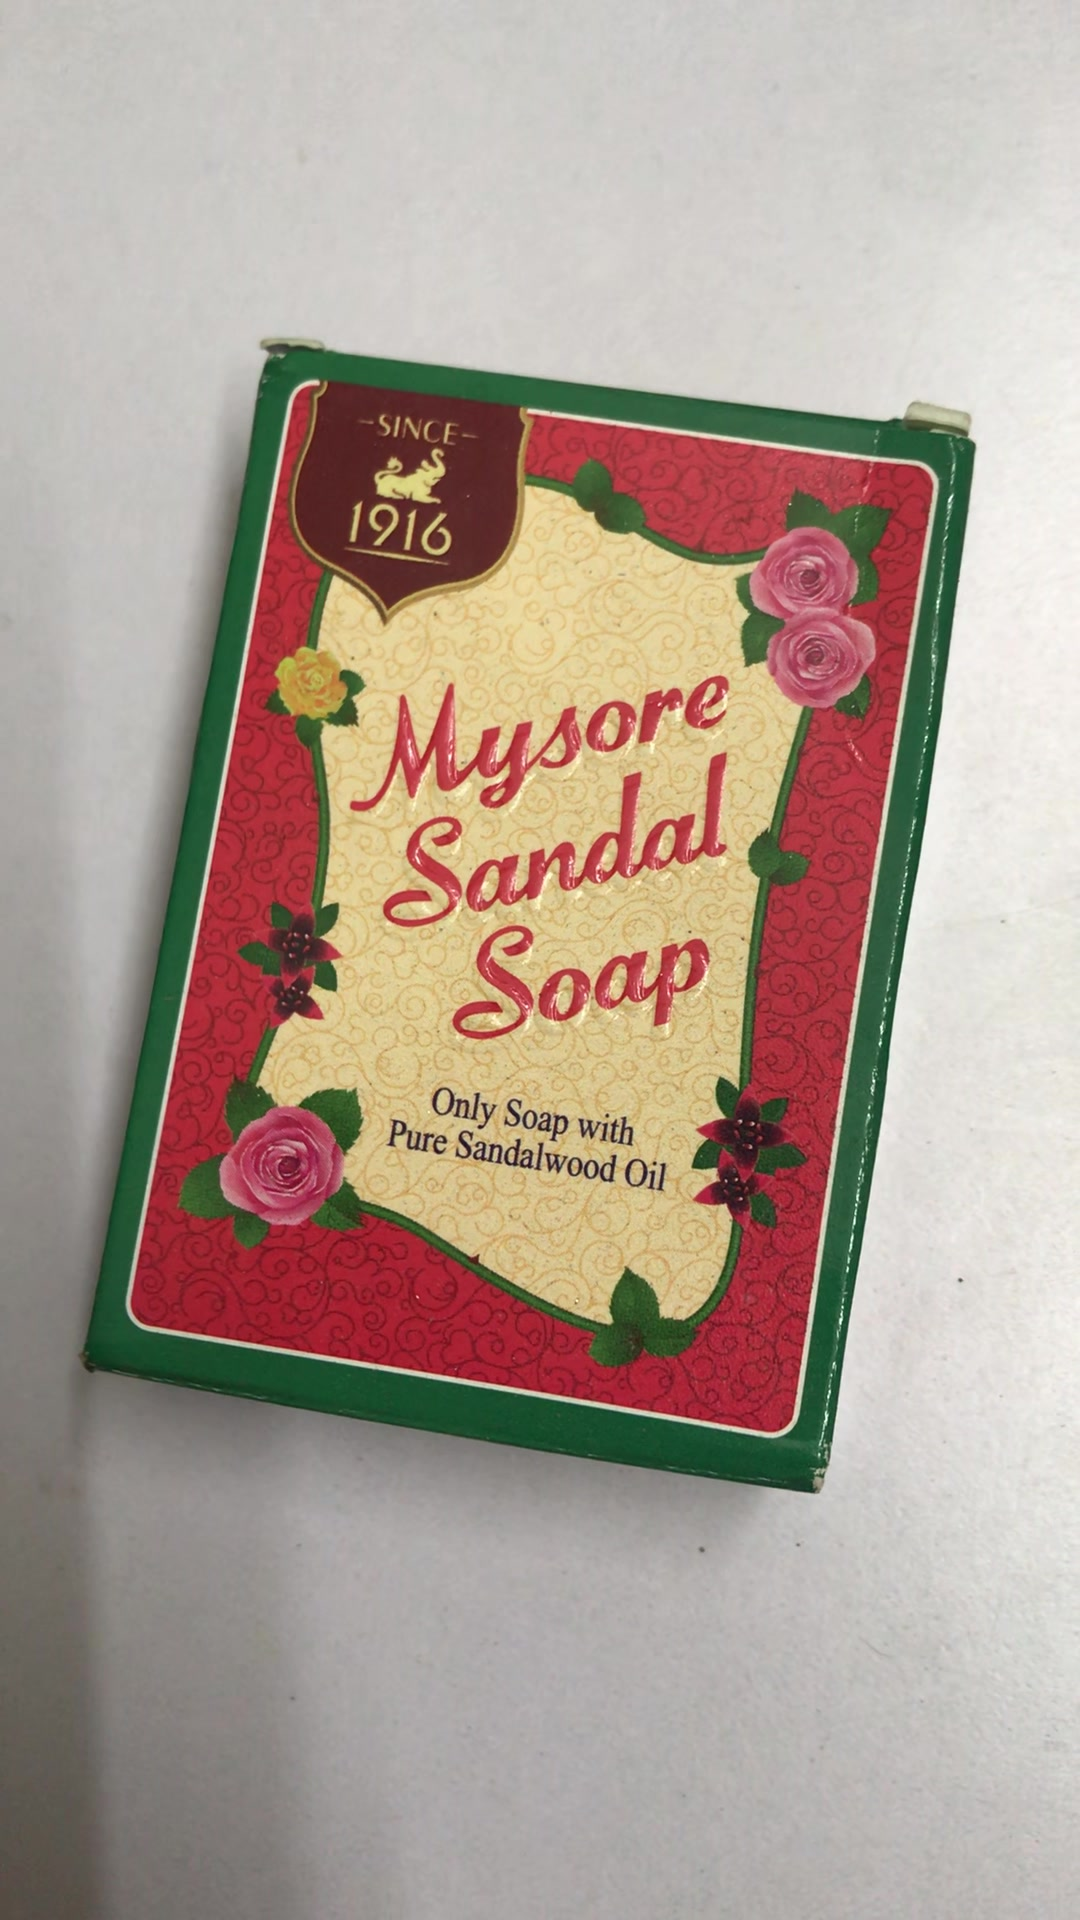mysore sandal soap: (84, 336, 972, 1498)
